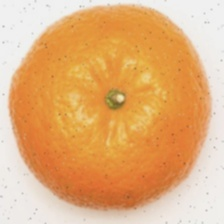orange: (27, 0, 224, 196)
